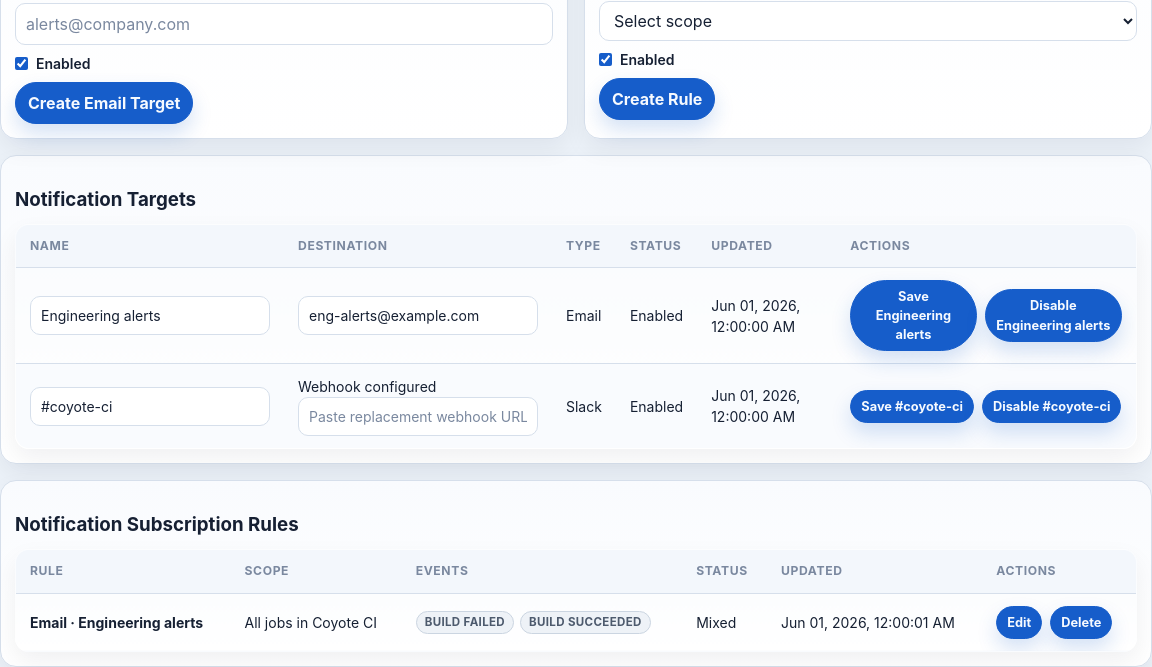
it: NotificationsPage › shows mixed-state warning when editing a mixed enabled rule
(page scrolled)
Expected: the text "Email · Engineering alerts" is shown, [30,614,203,631]
Click the button "Edit" at (1019, 622), box [996,606,1042,639]
(page scrolled)
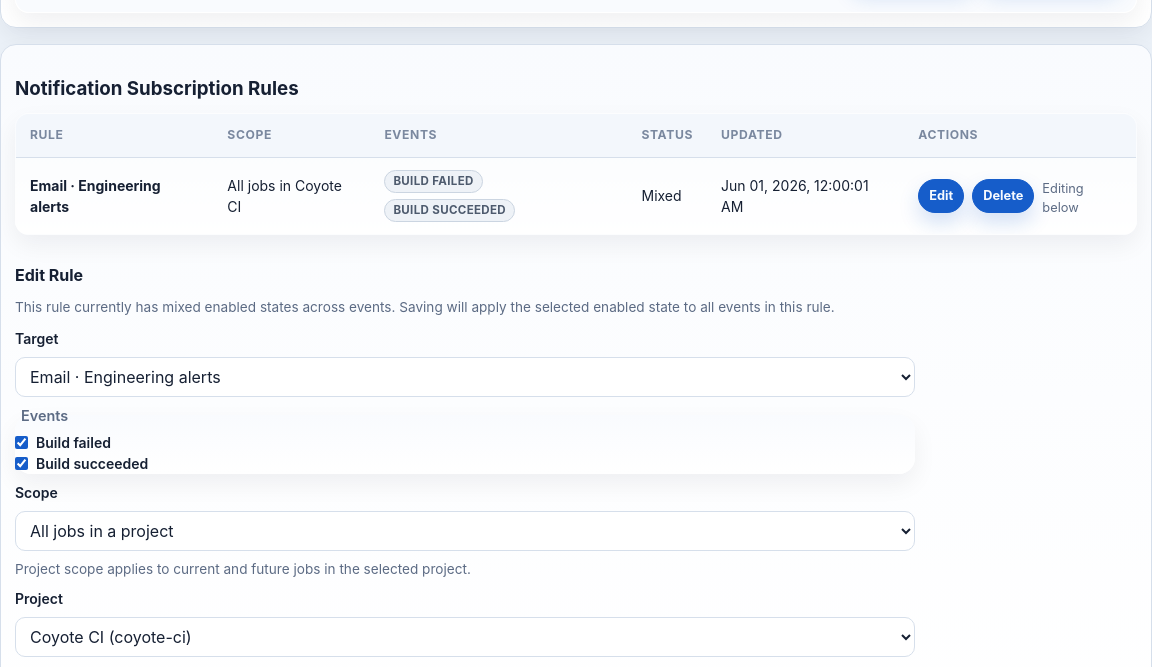
Expected: the text "This rule currently has mixed enabled states across events. Saving will apply the selected enabled state to all events i" is shown, [15,299,835,315]
